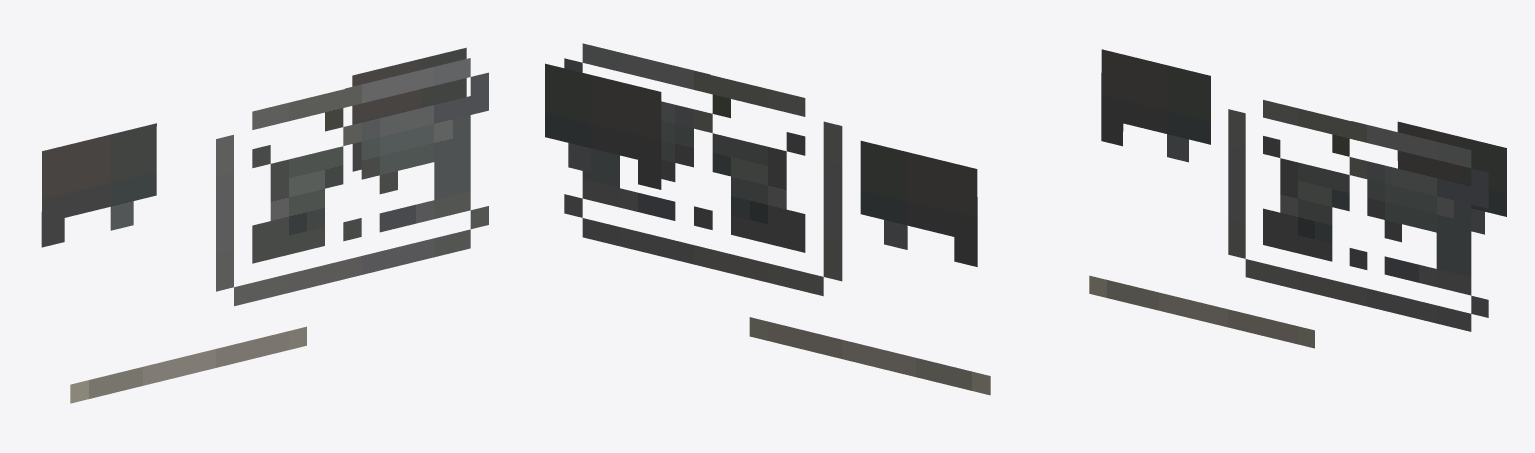
Rendered from eqp_circuit_board_s01_l2.fbx.
3 views of the same model, side by side, from view 1: azimuth 30°, elevation 25°; view 2: azimuth 150°, elevation 25°; view 3: azimuth 330°, elevation 25° (orthographic). The views are drawn at different scales.
Parts seen in each view (by area): view 1: mesh_node; view 2: mesh_node; view 3: mesh_node.
Part boxes in pixels (bbox=[...]): mesh_node: bbox=[41, 47, 488, 403]; mesh_node: bbox=[545, 43, 990, 395]; mesh_node: bbox=[1089, 49, 1506, 348].
Bounding box in the file's own units: 0.3099 × 0.2032 × 0.0314.
1 material, 1 textured.
